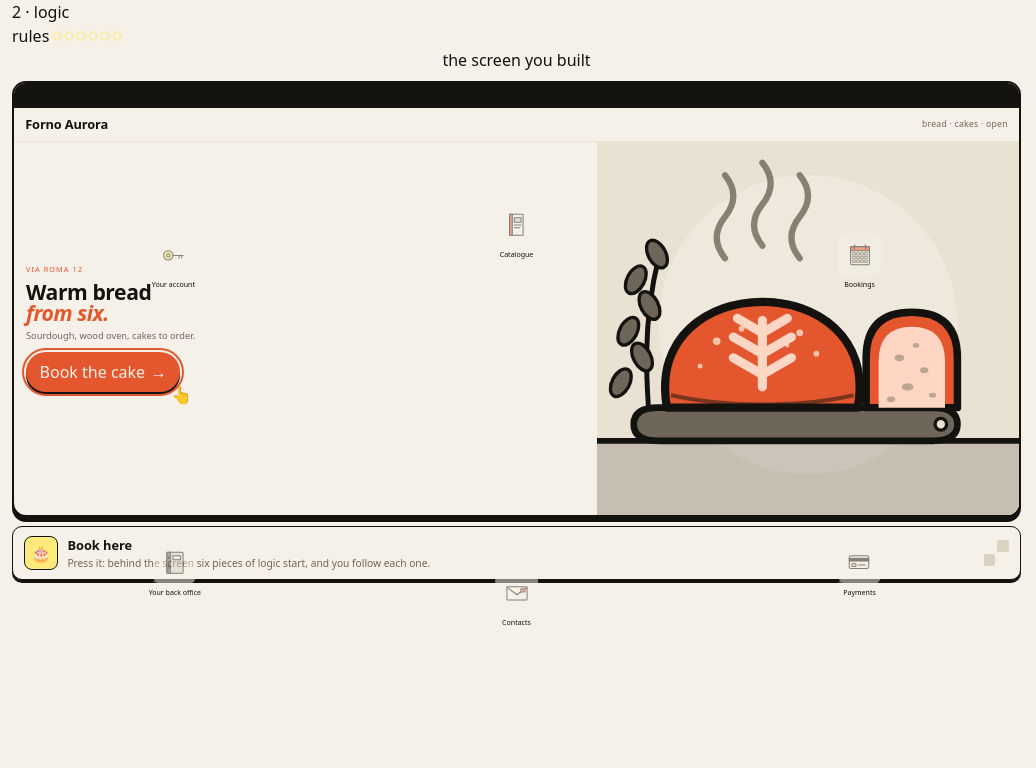
le logiche, in inglese › i testi ci sono, e non sono quelli italiani
Expected: the text "Book here" is shown, [67, 536, 132, 554]
Click the button "Book the cake → 👆": [103, 372] box [26, 352, 180, 392]
(page scrolled)
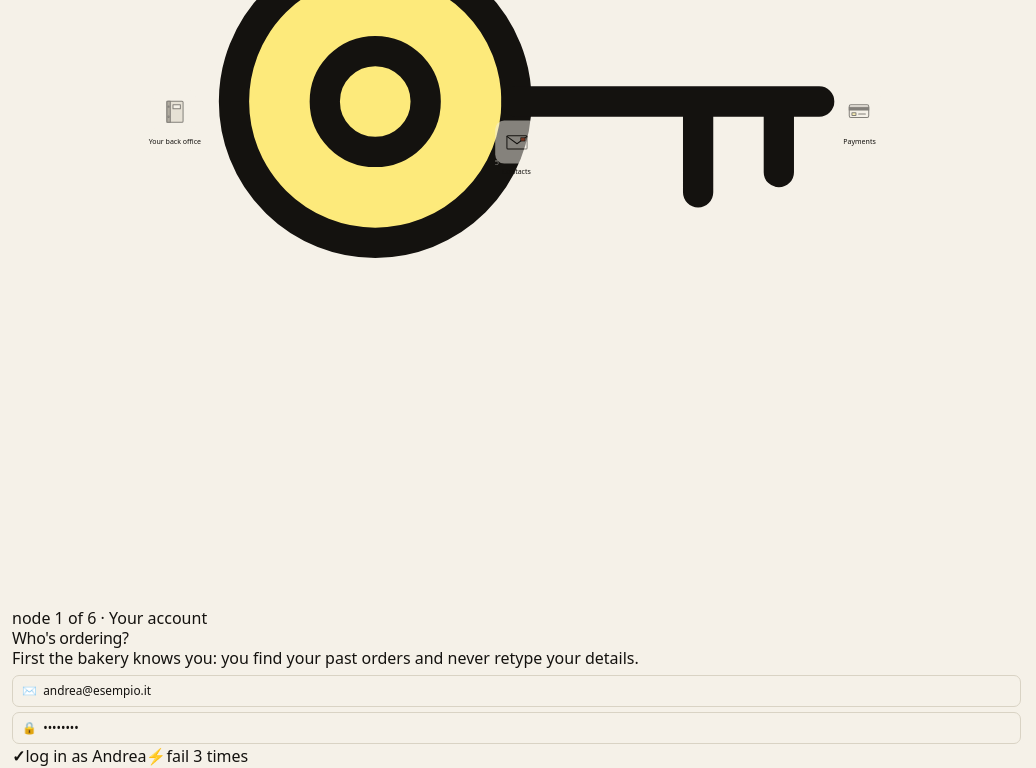
Result: the heading "Who's ordering?" is shown at [12, 627, 129, 649]
